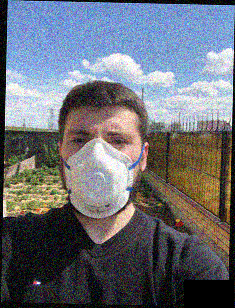with_mask: (60, 122, 138, 220)
